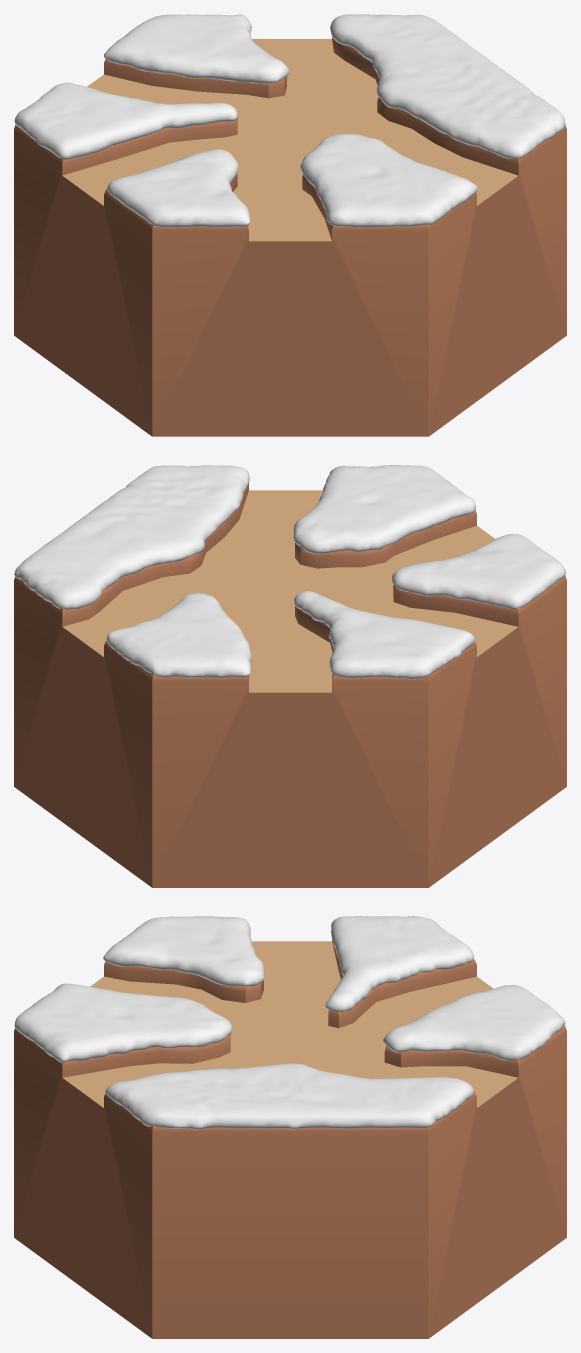
Rendered from hex_rock_roadL.fbx.
3 views of the same model, one above another, from view 1: azimuth 30°, elevation 25°; view 2: azimuth 150°, elevation 25°; view 3: azimuth 270°, elevation 25° (orthographic).
Visible parts, largest first — view 1: hex_rock_roadL.001, SnowBall.001, hex_rock_roadL; view 2: hex_rock_roadL.001, SnowBall.001, hex_rock_roadL; view 3: hex_rock_roadL.001, SnowBall.001, hex_rock_roadL.
Part boxes in pixels (<box>): hex_rock_roadL.001: <box>14,37,566,436</box>; SnowBall.001: <box>14,14,565,227</box>; hex_rock_roadL: <box>63,39,517,241</box>; hex_rock_roadL.001: <box>14,483,566,887</box>; SnowBall.001: <box>14,465,565,679</box>; hex_rock_roadL: <box>63,490,517,692</box>; hex_rock_roadL.001: <box>14,940,566,1338</box>; SnowBall.001: <box>14,916,565,1130</box>; hex_rock_roadL: <box>62,941,518,1107</box>.
Size of the model in its own units: 203 by 104 by 231.
